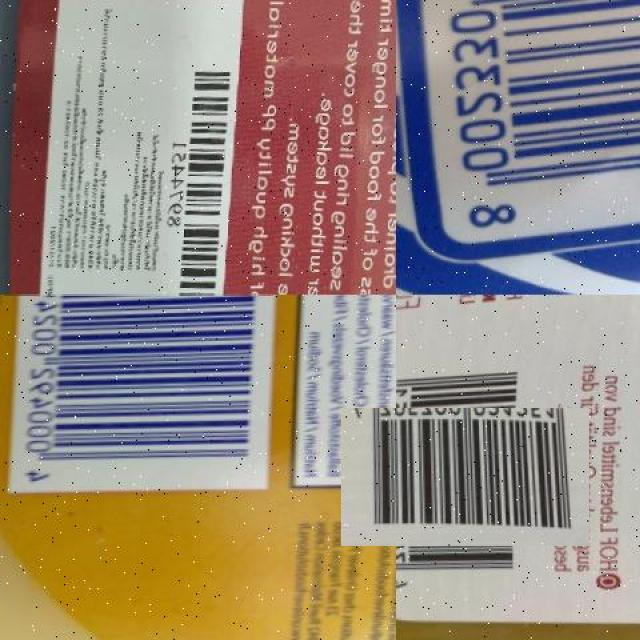Barcode: (396, 0, 640, 246), (4, 294, 273, 498), (369, 381, 562, 574), (160, 57, 229, 295)
